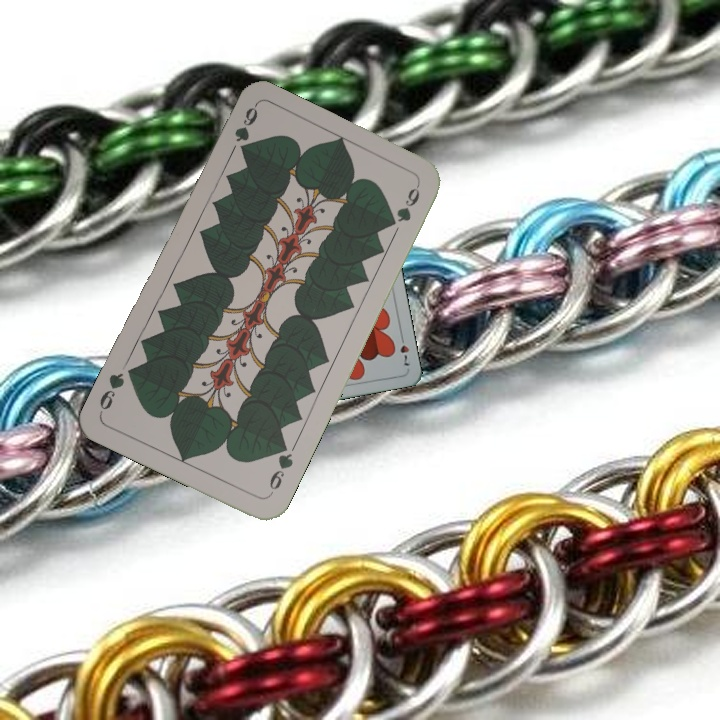G9: (265, 439, 296, 498), (230, 103, 261, 145)
H7: (396, 330, 413, 368)
